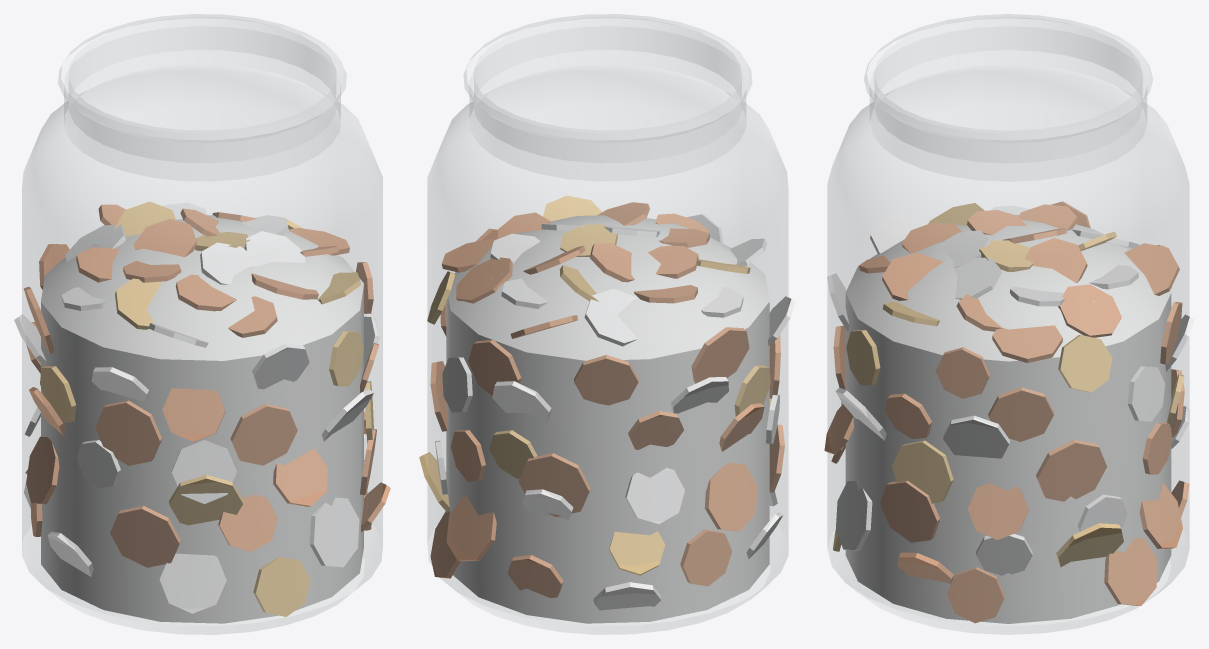
Rendered from SM_Loot_CoinJar.fbx.
3 views of the same model, side by side, from view 1: azimuth 30°, elevation 25°; view 2: azimuth 150°, elevation 25°; view 3: azimuth 270°, elevation 25° (orthographic).
Visible parts, largest first — view 1: SM_Loot_CoinJar; view 2: SM_Loot_CoinJar; view 3: SM_Loot_CoinJar.
Boxes of the visible parts, <box> form: SM_Loot_CoinJar: <box>14,14,390,634</box>; SM_Loot_CoinJar: <box>419,14,795,634</box>; SM_Loot_CoinJar: <box>824,14,1194,634</box>.
Bounding box in the file's own units: 12.06 × 18 × 12.27.
